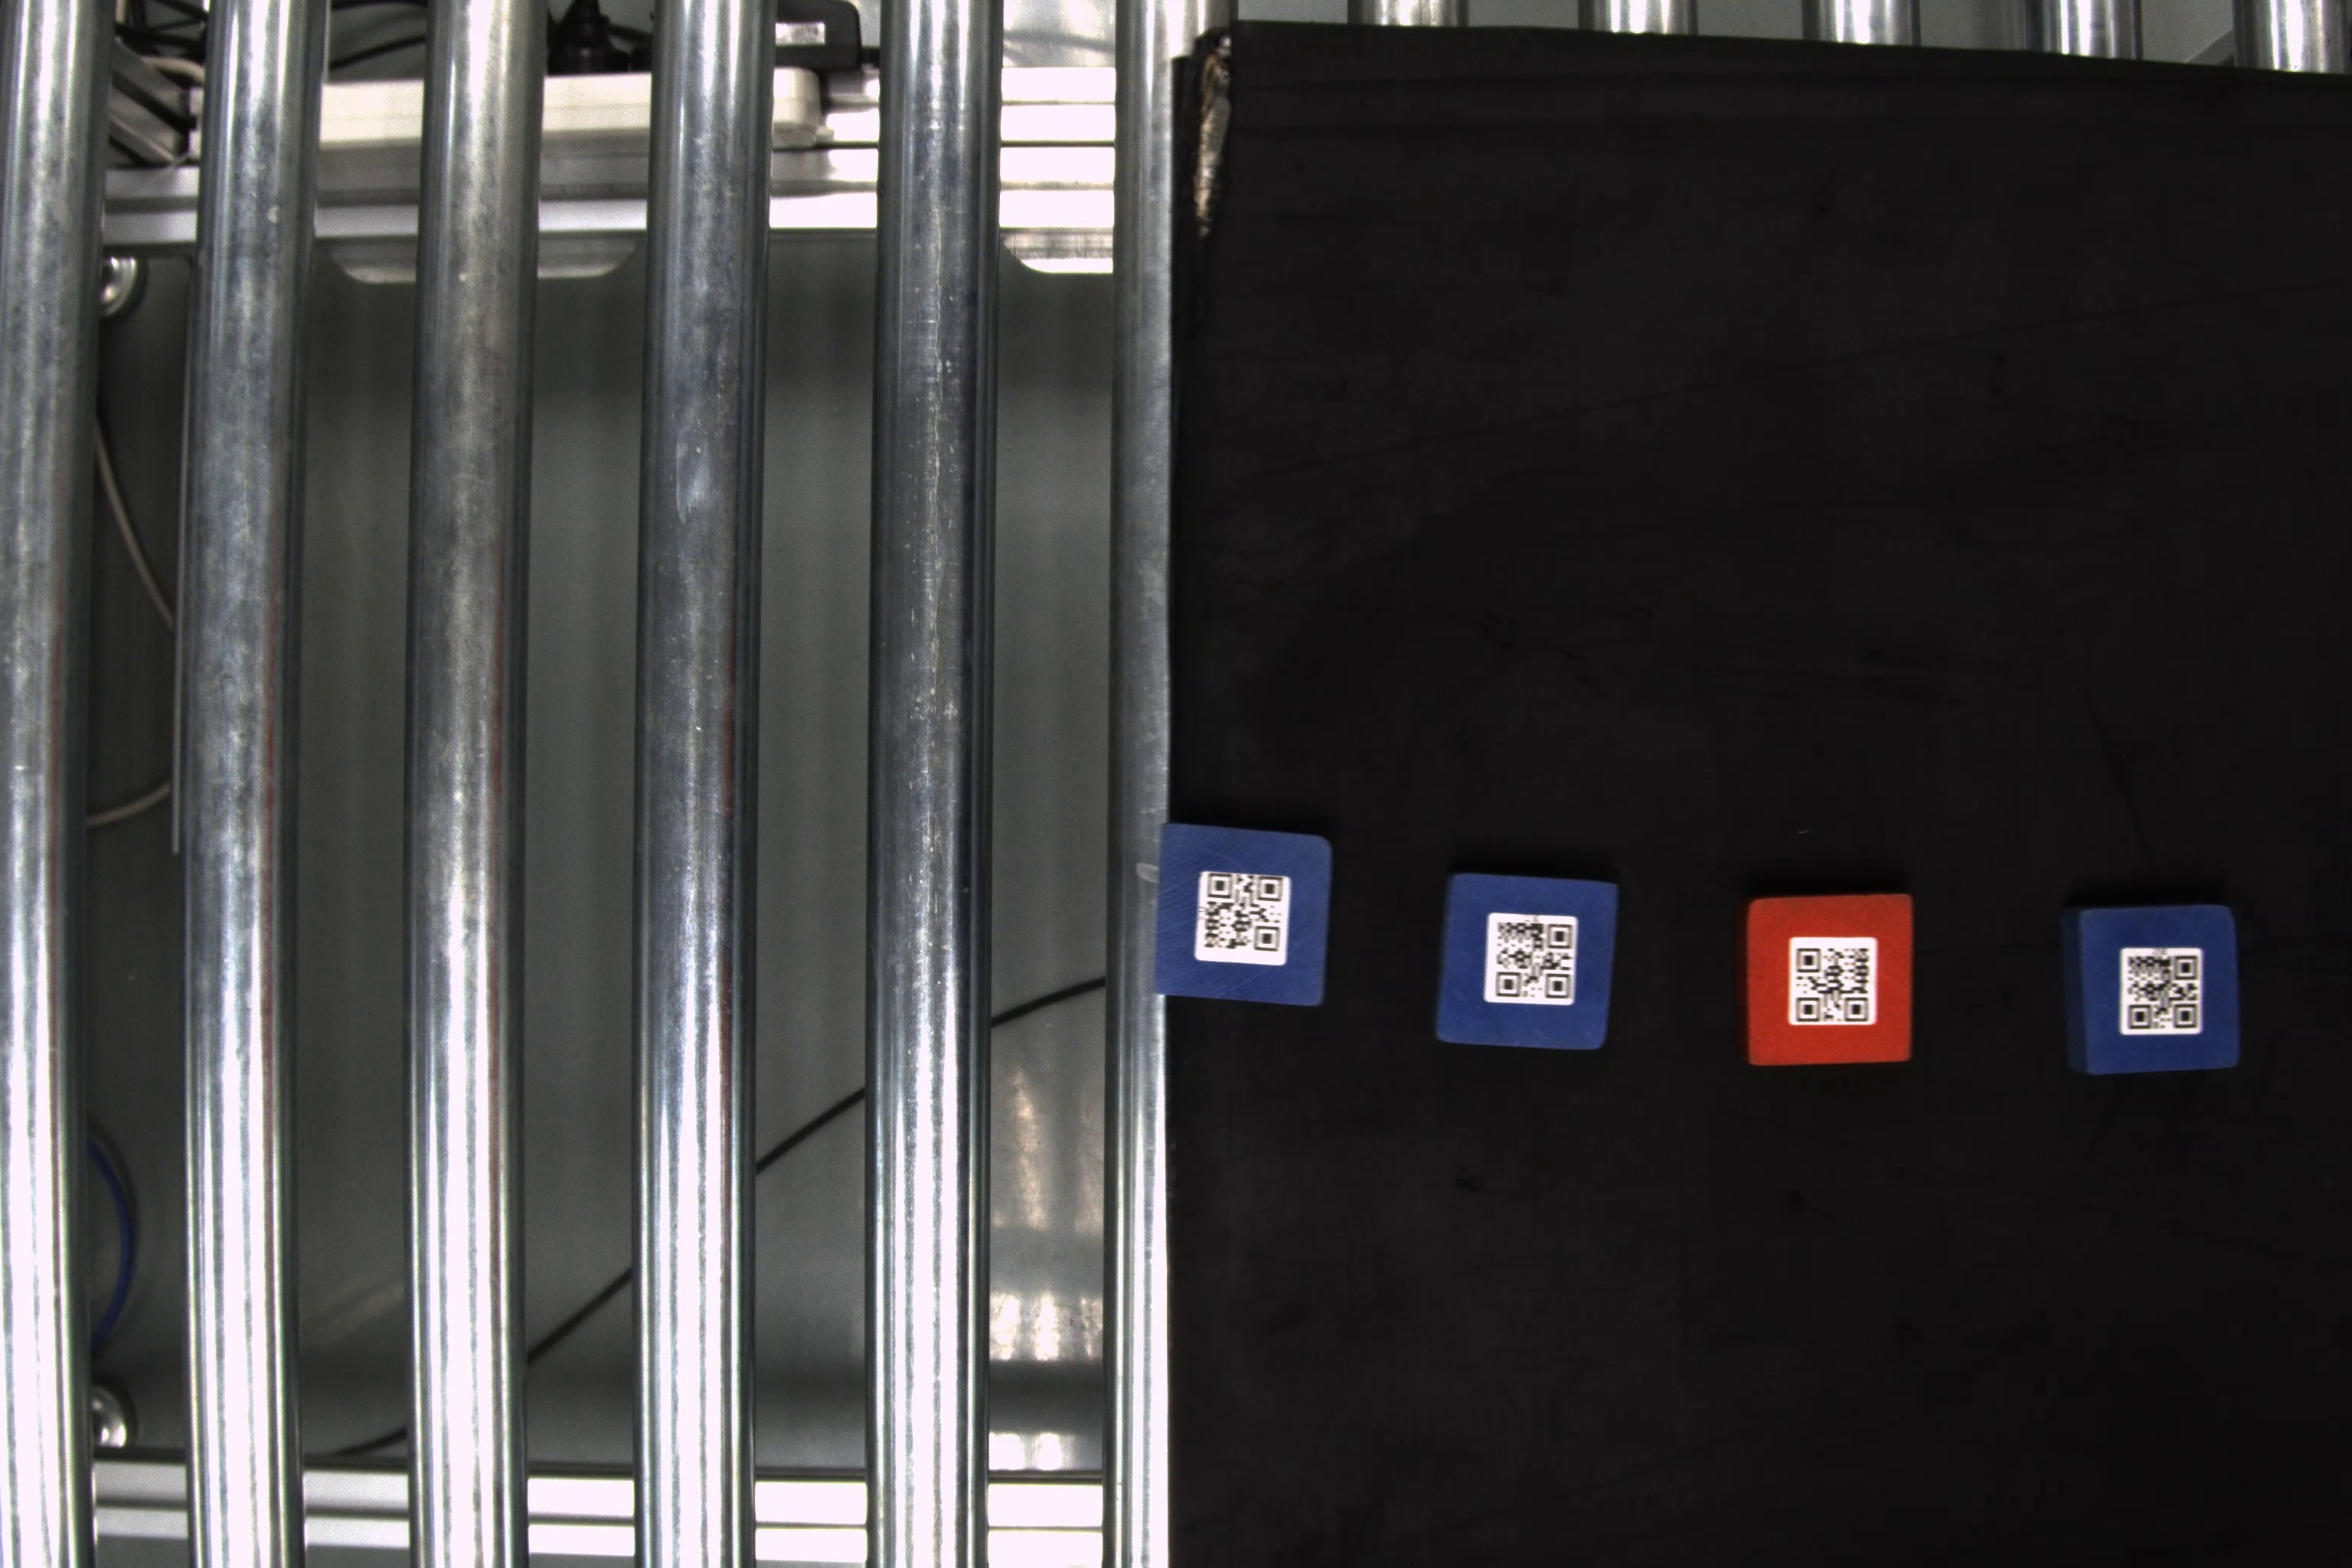wood: (1158, 815, 1337, 1011), (1739, 887, 1923, 1069), (1440, 871, 1619, 1048), (2065, 901, 2243, 1078)
